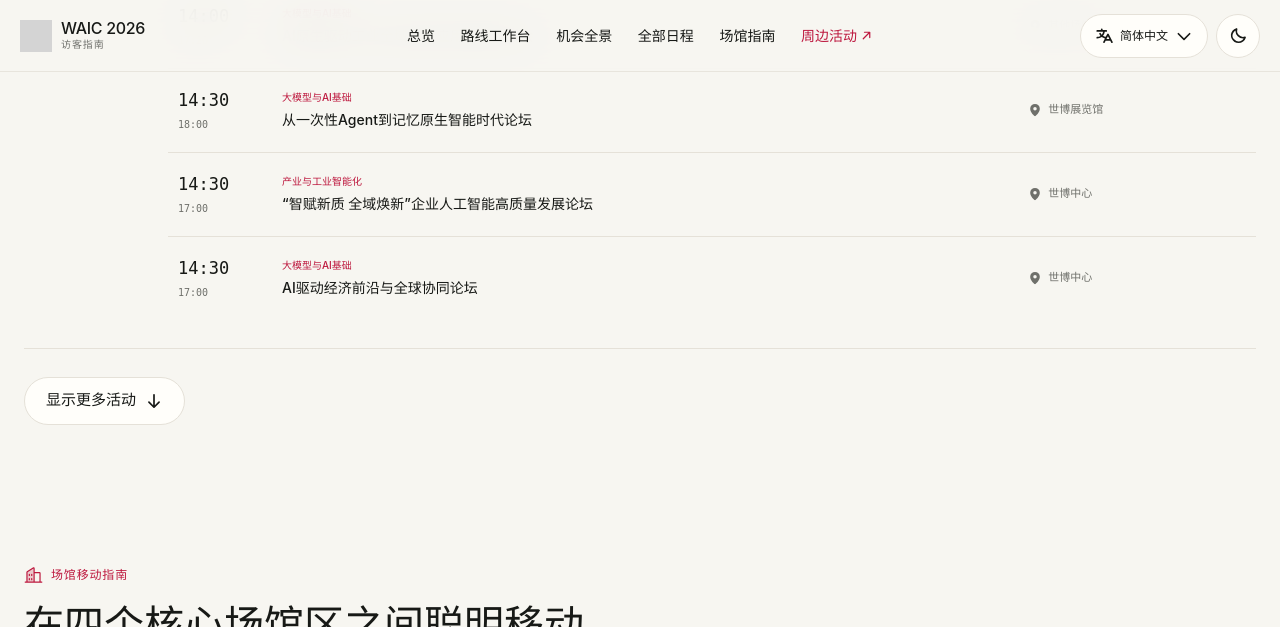
Scenario: event explorer › shows 24 editorial timeline rows first and progressively reveals more
This screenshot has width=1280, height=627.
(page scrolled)
Click the button "显示更多活动" at (104, 401), box [24,377,185,425]
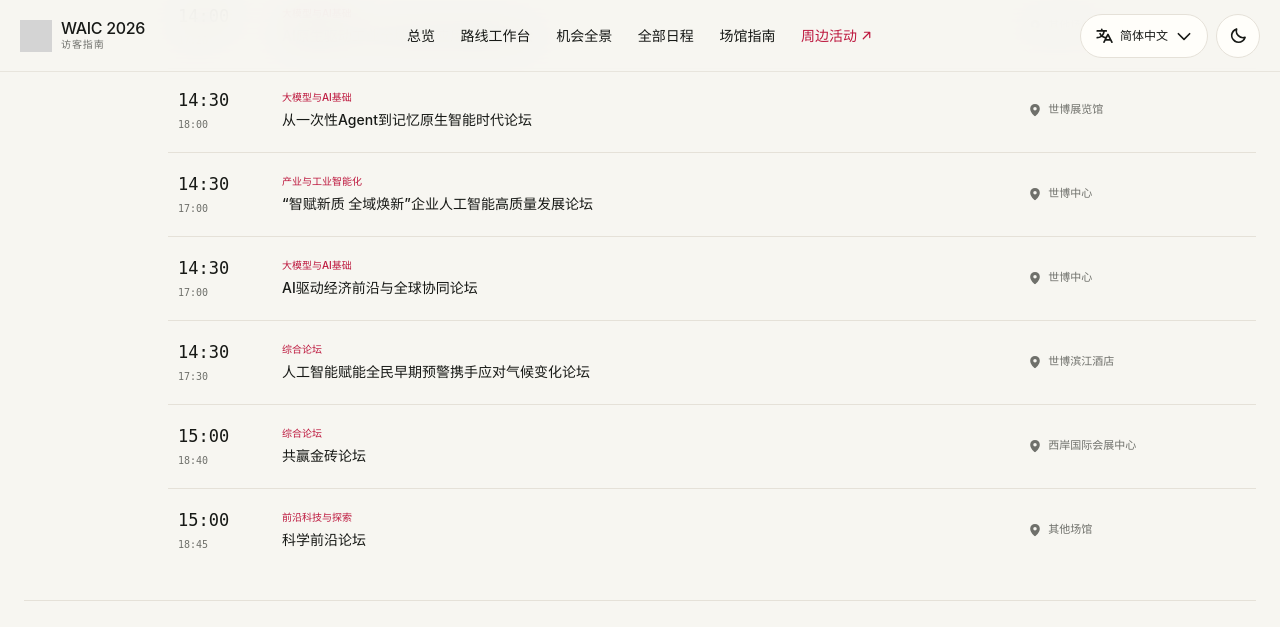
Click the button with aria-label "选择语言" at (1144, 36), box [1080,14,1208,58]
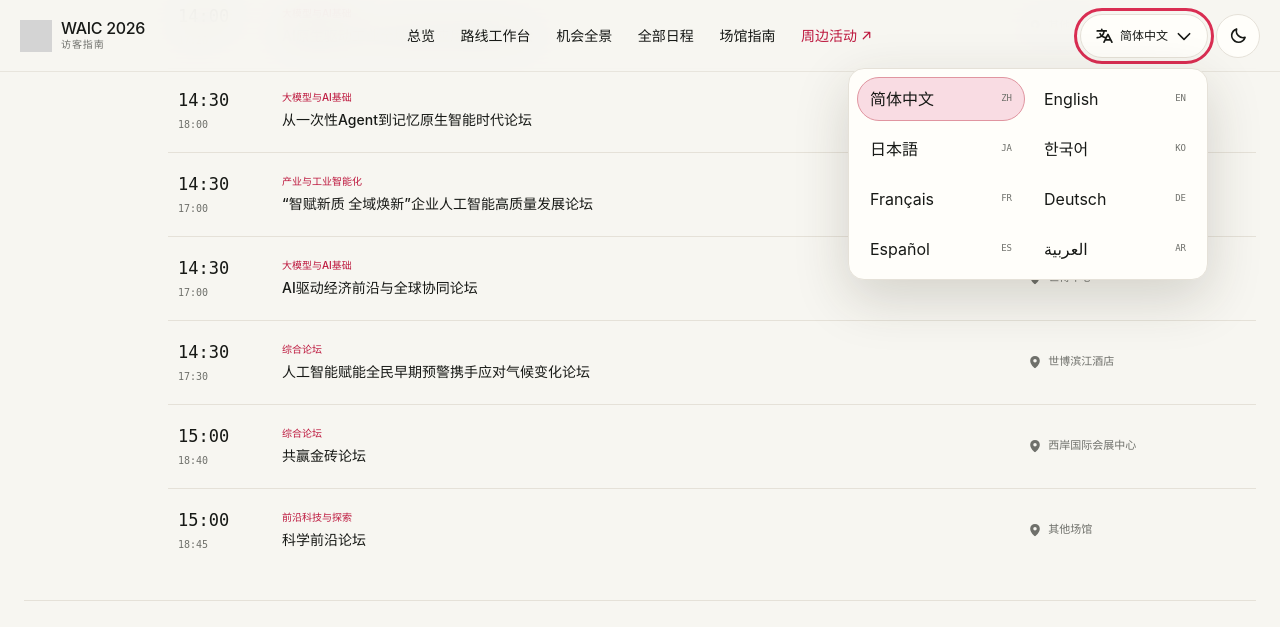
Click the menu item "English EN" at (1115, 98), box [1031,76,1199,120]
(page scrolled)
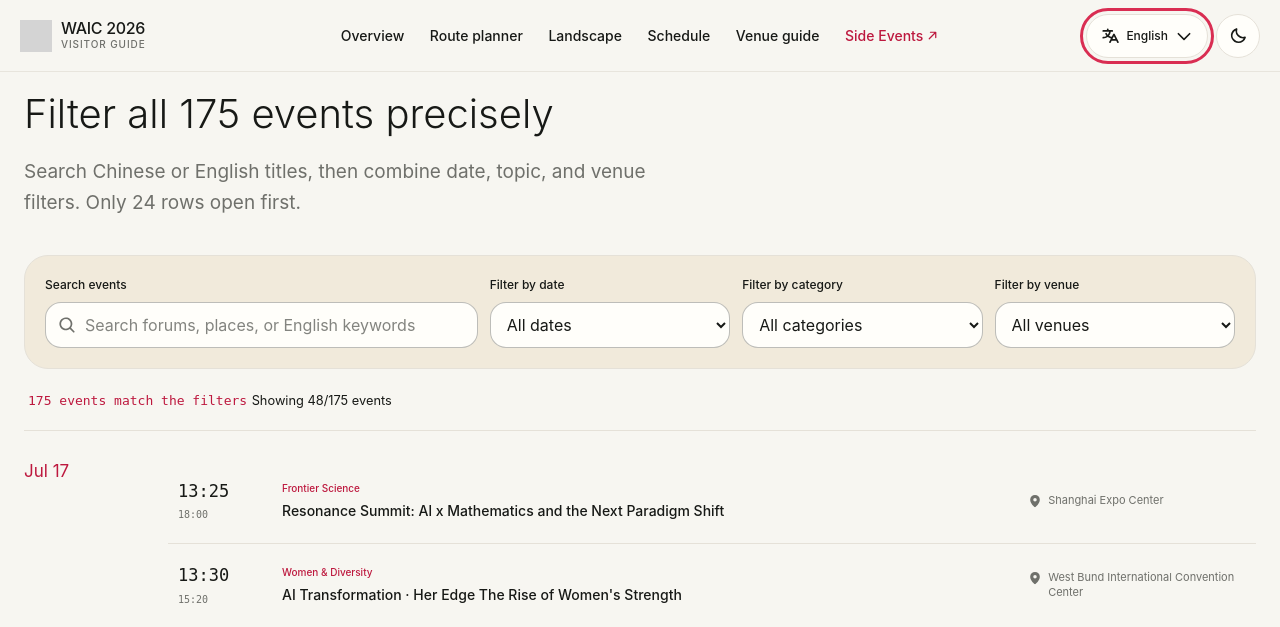
Now the text "Showing 48/175 events" is shown, box [252,393,392,408]
